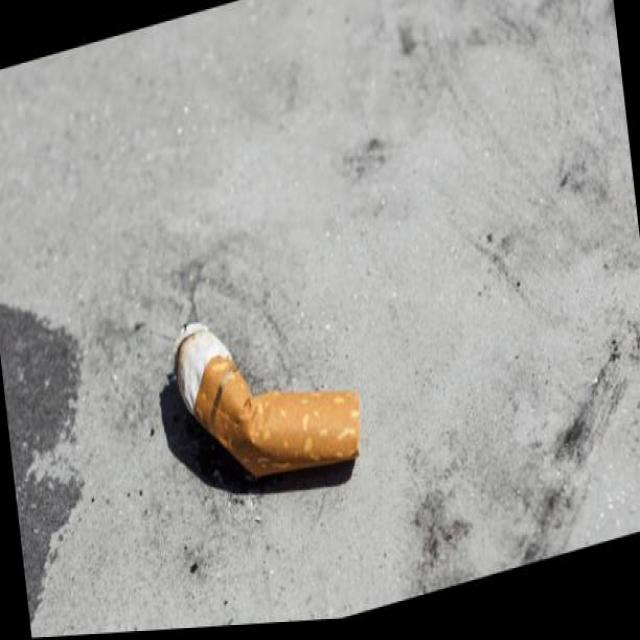cigarette: (166, 275, 367, 518)
